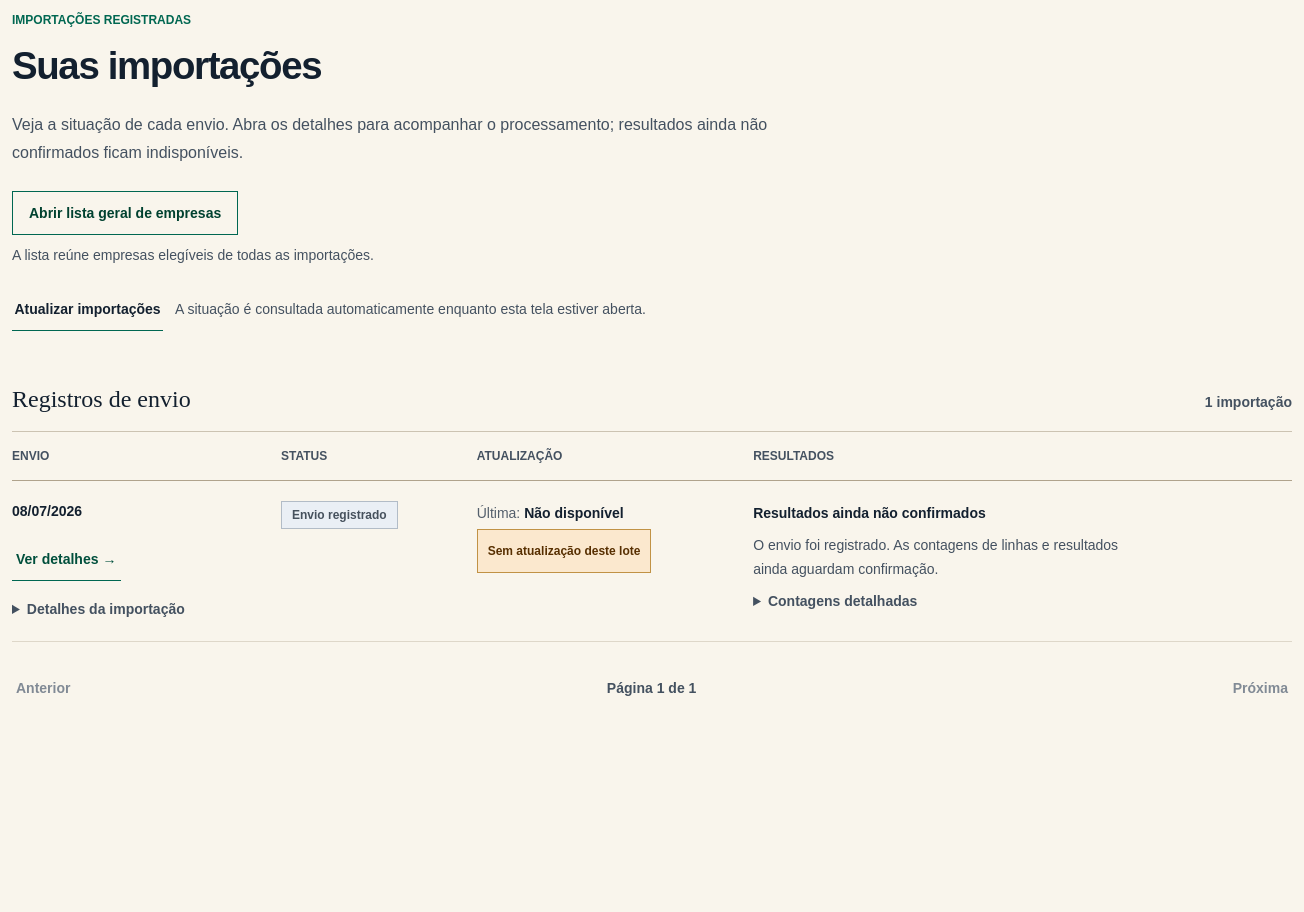
Test: batch list page › keeps the last confirmed list after a temporary refresh failure and recovers with a read-only action
Click the button "Atualizar importações": (88, 309) [12,287,163,331]
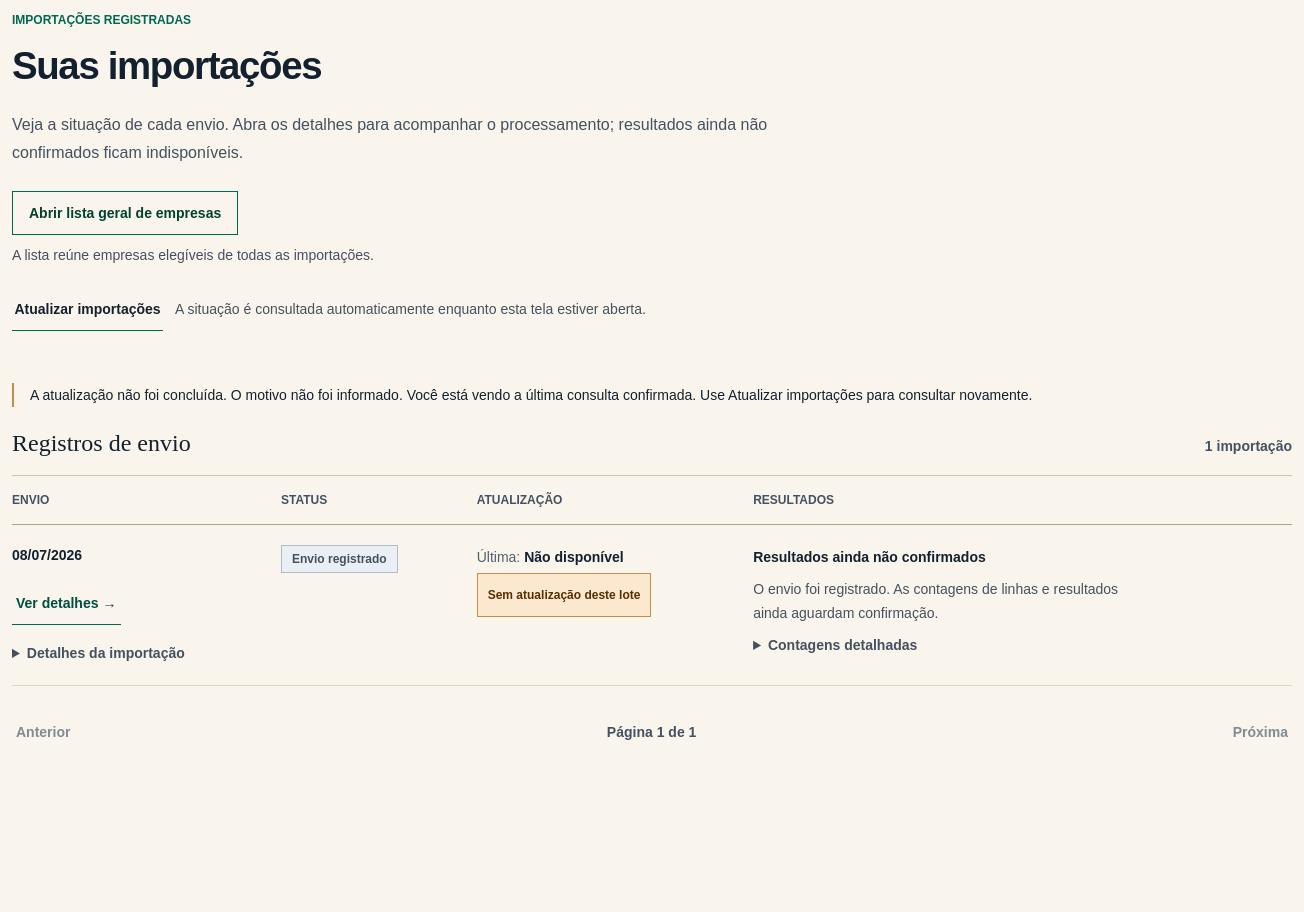
Expected: the table named "Importações registradas" is shown, [12,476,1292,686]
Now the message shows "A atualização não foi concluída. O motivo não foi informado. Você está vendo a última consulta confirmada.", box [30,387,696,403]
Click the button "Atualizar importações": (88, 309) [12,287,163,331]
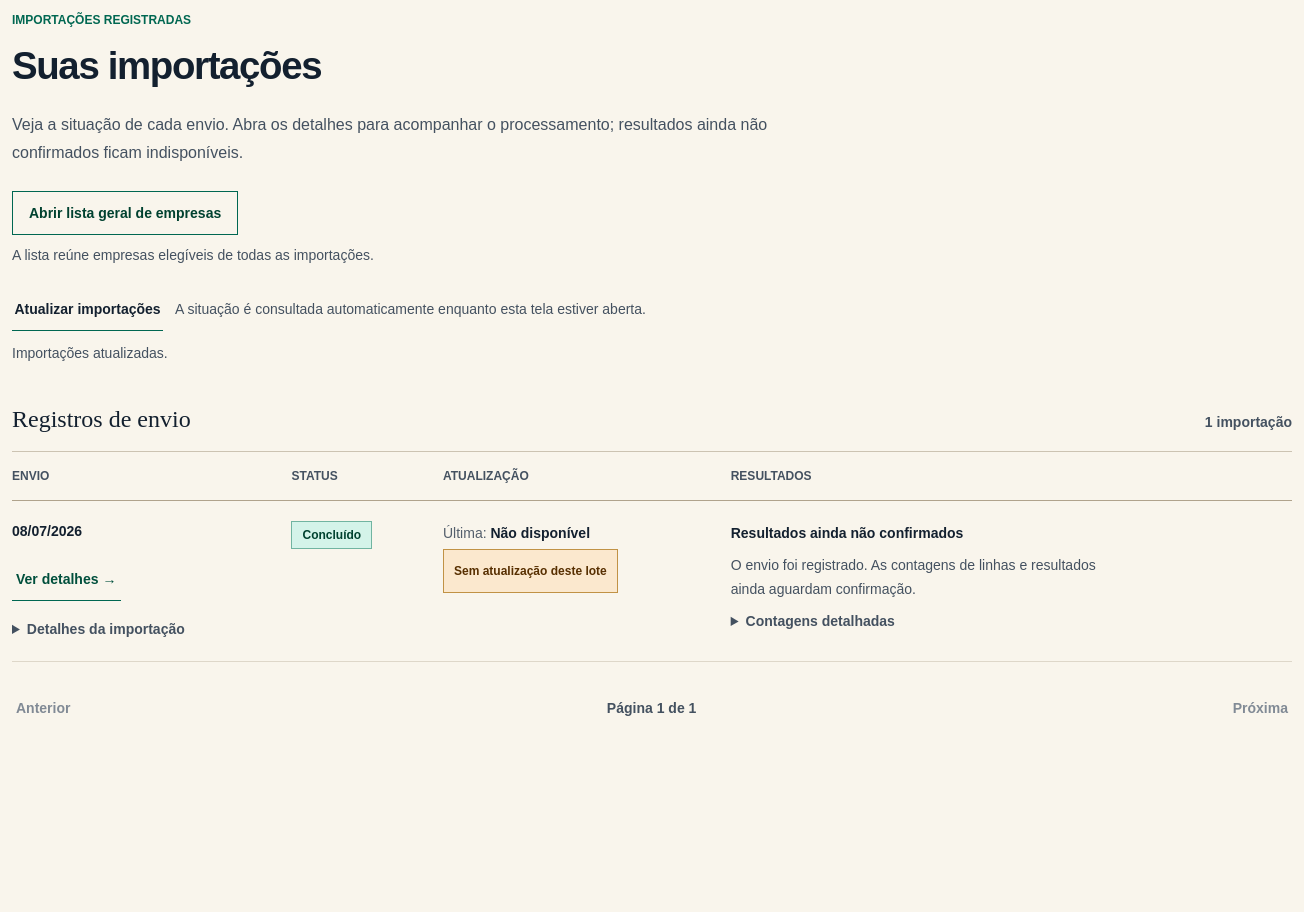
Now the text "Concluído" is shown, box [292,521,372,549]
